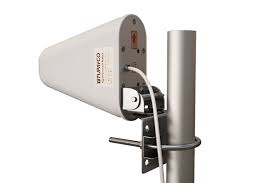sa: (148, 25, 201, 183)
